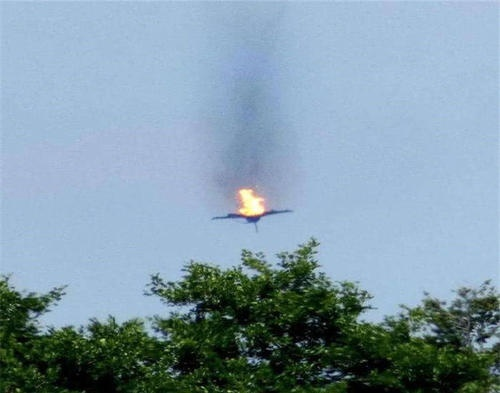fire: (235, 184, 268, 215)
